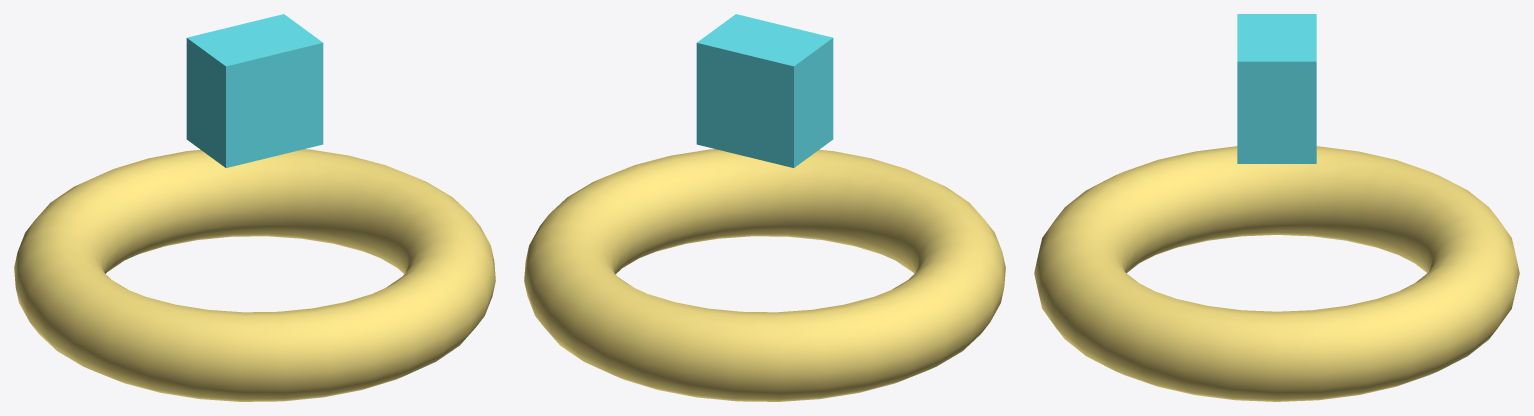
File: signet_ring.glb
3 renders of one model, left to right at view 1: azimuth 30°, elevation 25°; view 2: azimuth 150°, elevation 25°; view 3: azimuth 270°, elevation 25°, orthographic.
Size of the model in its own units: 1.72 by 1.08 by 1.72.
